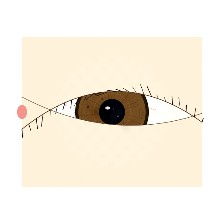pinguecula_lesion: (32, 105, 68, 133)
